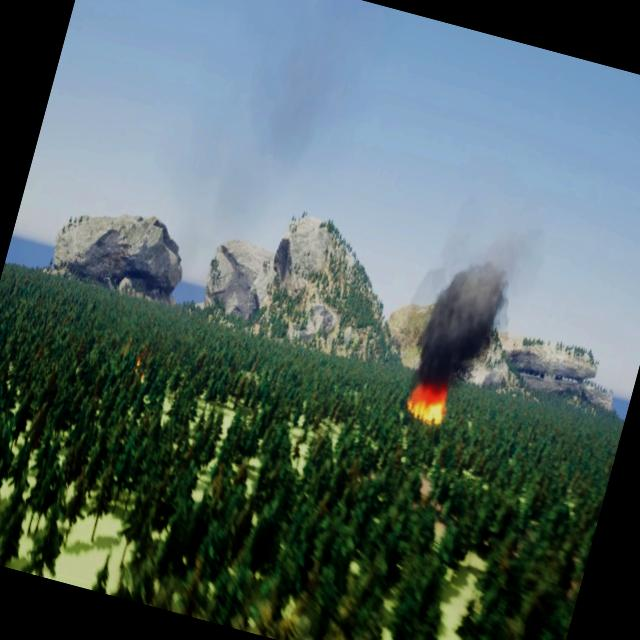fire: (400, 374, 450, 424)
smoke: (408, 244, 516, 388)
